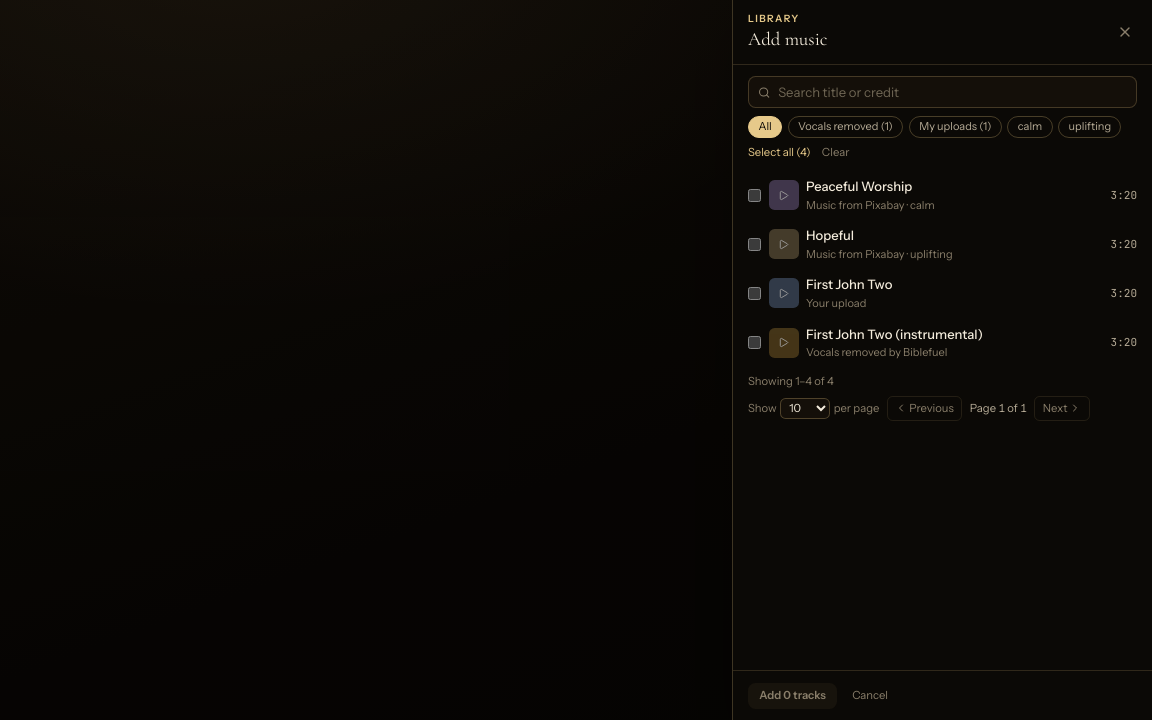
Test: LibraryDrawer shelves › has a shelf for the instrumentals Biblefuel made, and one for other uploads
Step 1. Click the button "Vocals removed (1)" → point(845, 127), box left=788, top=116, right=903, bottom=138
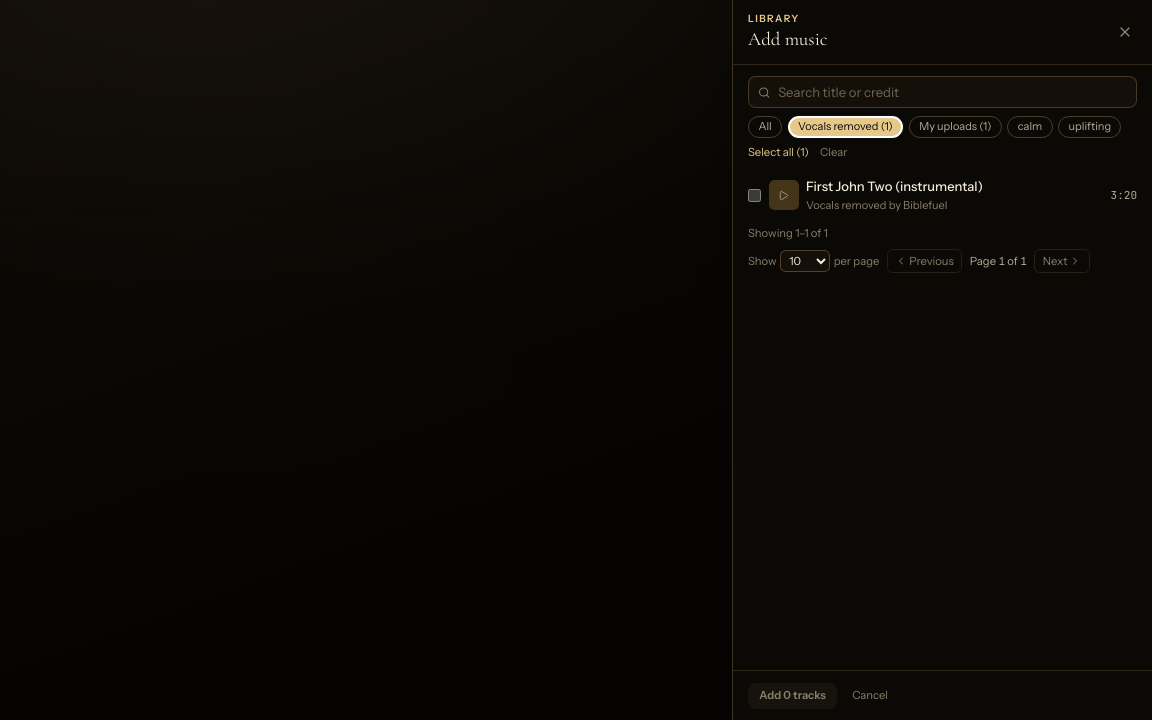
Expected: the text "Vocals removed by Biblefuel" is shown, left=806, top=198, right=947, bottom=212
Now the number of checkboxes is 1, box left=748, top=189, right=761, bottom=202
Step 2. Click the button "My uploads (1)" → point(955, 127), box left=909, top=116, right=1002, bottom=138
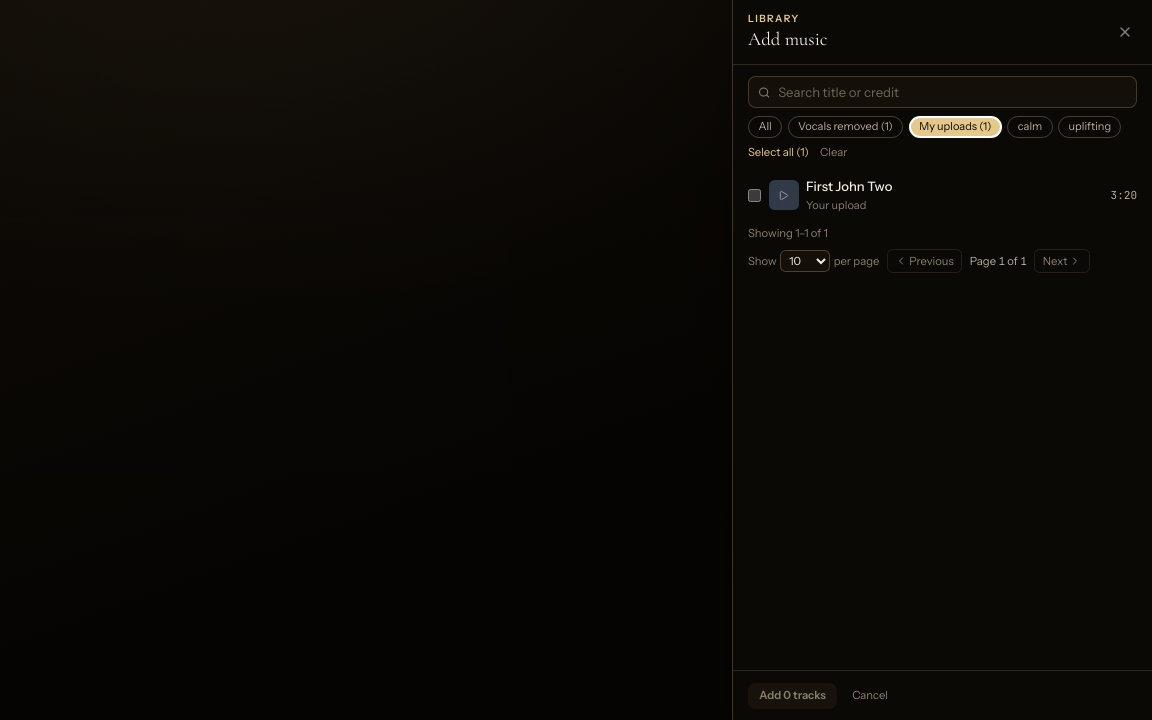
Expected: the text "First John Two" is shown, left=806, top=178, right=892, bottom=194
Now the number of checkboxes is 1, box left=748, top=189, right=761, bottom=202
Step 3. Click the button "All" → point(765, 127), box left=748, top=116, right=782, bottom=138
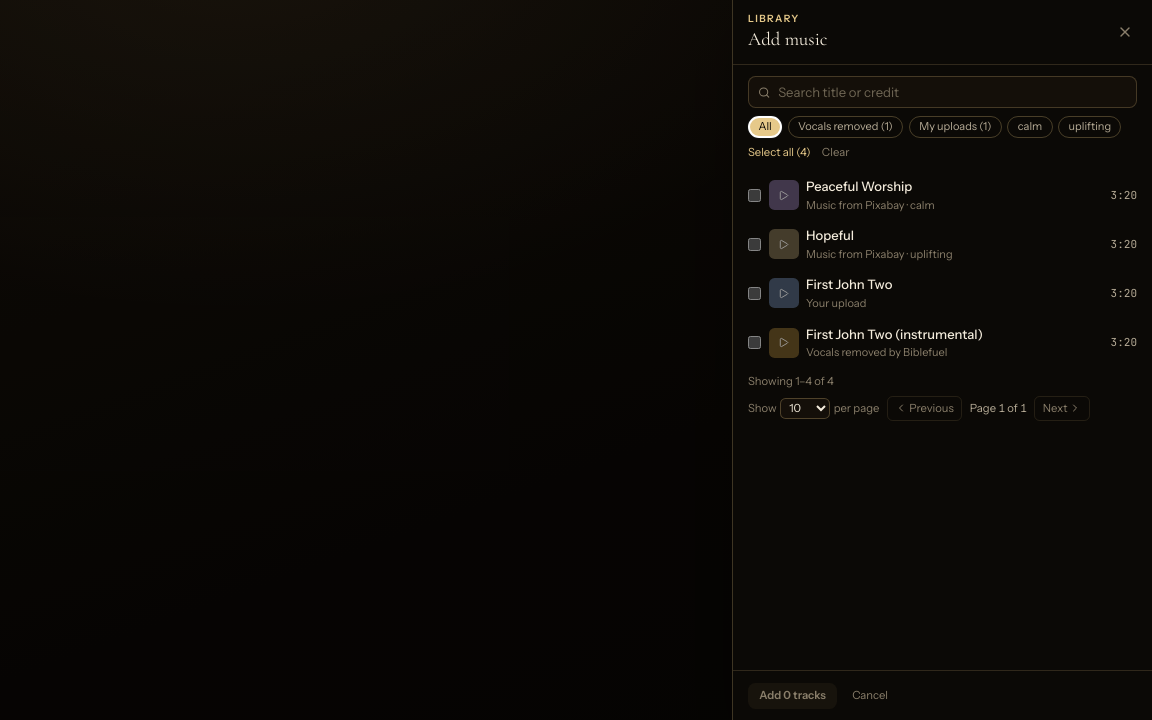
Now the number of checkboxes is 4, box left=748, top=189, right=761, bottom=202; left=748, top=238, right=761, bottom=251; left=748, top=287, right=761, bottom=300; left=748, top=336, right=761, bottom=349
